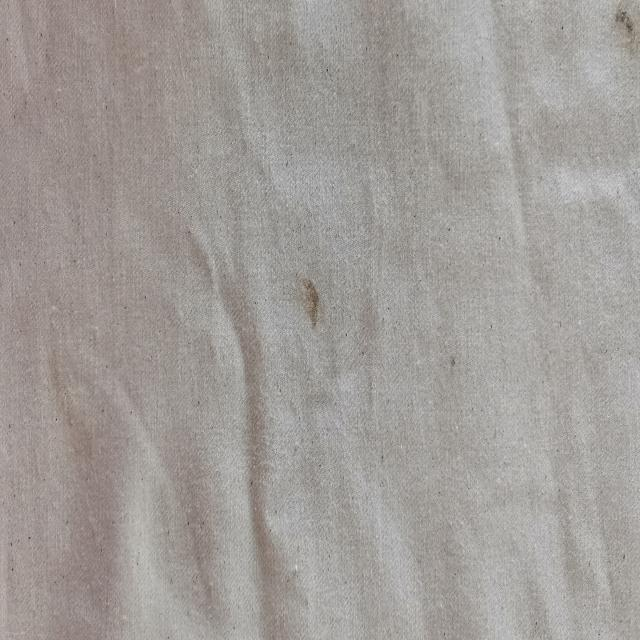taaaches: (295, 256, 323, 347), (612, 0, 638, 58)
